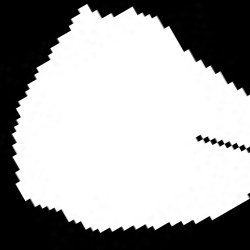spot: (14, 9, 247, 231)
